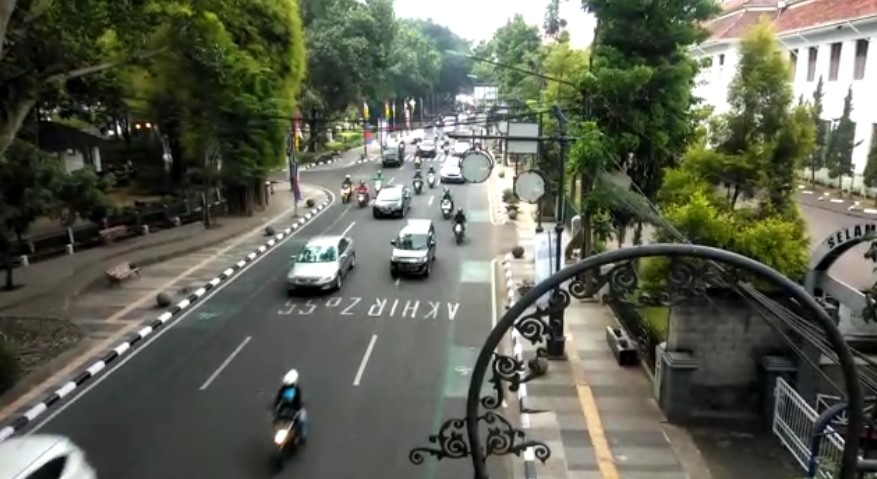mobil: (286, 233, 357, 295), (387, 215, 438, 280), (372, 184, 410, 220)
motor: (256, 365, 310, 469), (438, 188, 457, 218), (454, 208, 467, 248), (335, 175, 354, 202), (354, 180, 370, 210)
